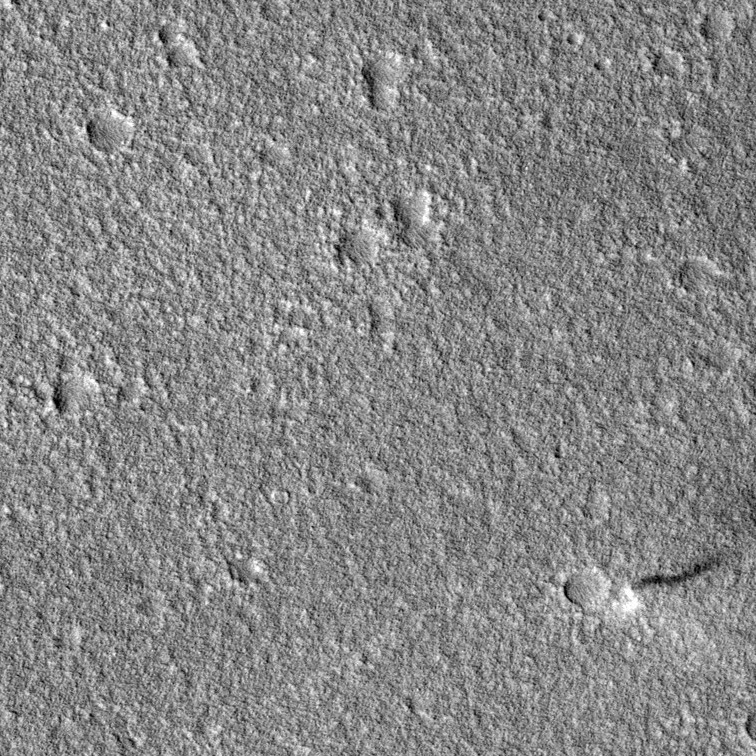dust_devil: (613, 547, 735, 616)
